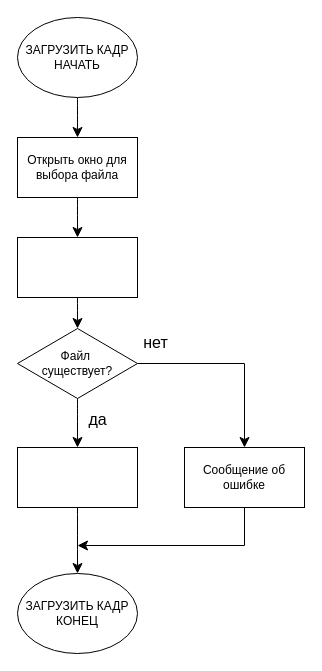
This 322x671 diagram has some shape labels left out. Each missing label, with the box of its shape:
Извлечь имя файла: (16, 446, 138, 508)
Получить файл и его путь: (16, 236, 138, 298)
